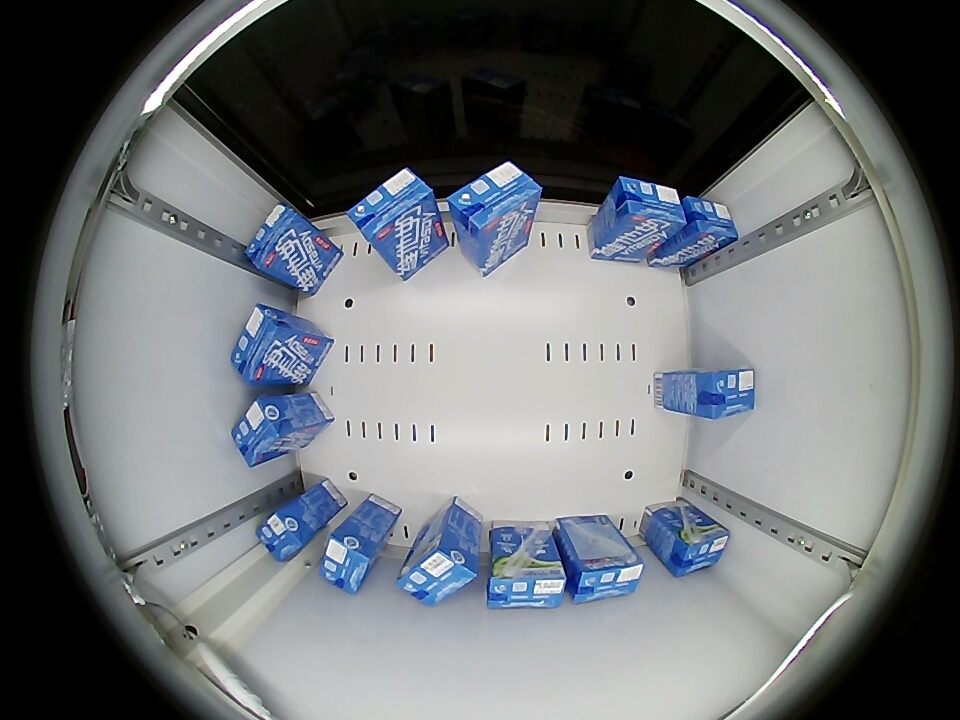weitanai: (446, 160, 542, 236), (347, 168, 438, 244), (231, 303, 304, 386), (396, 540, 479, 606), (606, 176, 687, 239), (246, 204, 312, 275), (231, 395, 295, 468), (569, 547, 645, 604), (487, 556, 567, 610), (320, 524, 381, 594), (665, 517, 730, 578), (256, 504, 316, 562), (681, 196, 739, 250), (696, 368, 756, 420)
